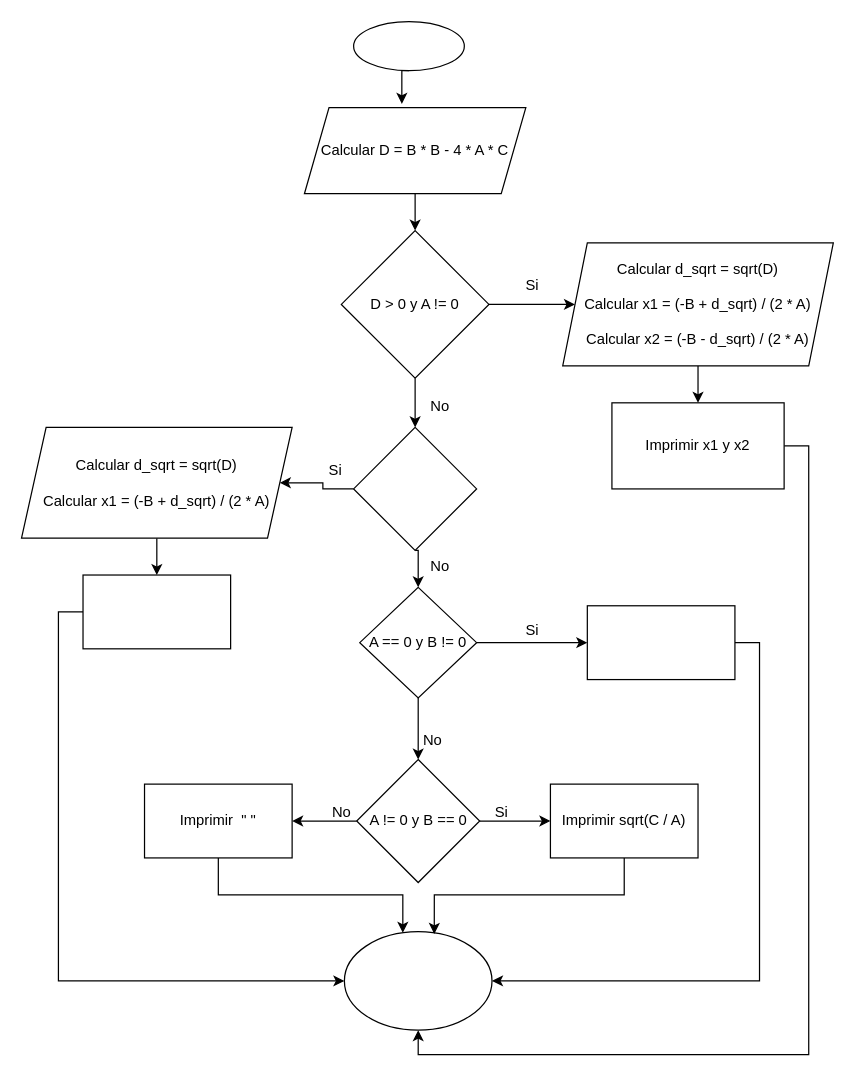
Image size: 855x1086. Some labels were removed from this diagram. The shapes that lost their labels are listed below. From the top down, each one's box as (x1, y1, x2, y2) in pixels, then its label:
(352, 20, 464, 71): Inicio
(352, 426, 477, 550): D == 0 y A != 0
(82, 574, 231, 649): Imprimir x1
(586, 605, 735, 680): Imprimir (-C) / B
(343, 930, 492, 1030): Fin
